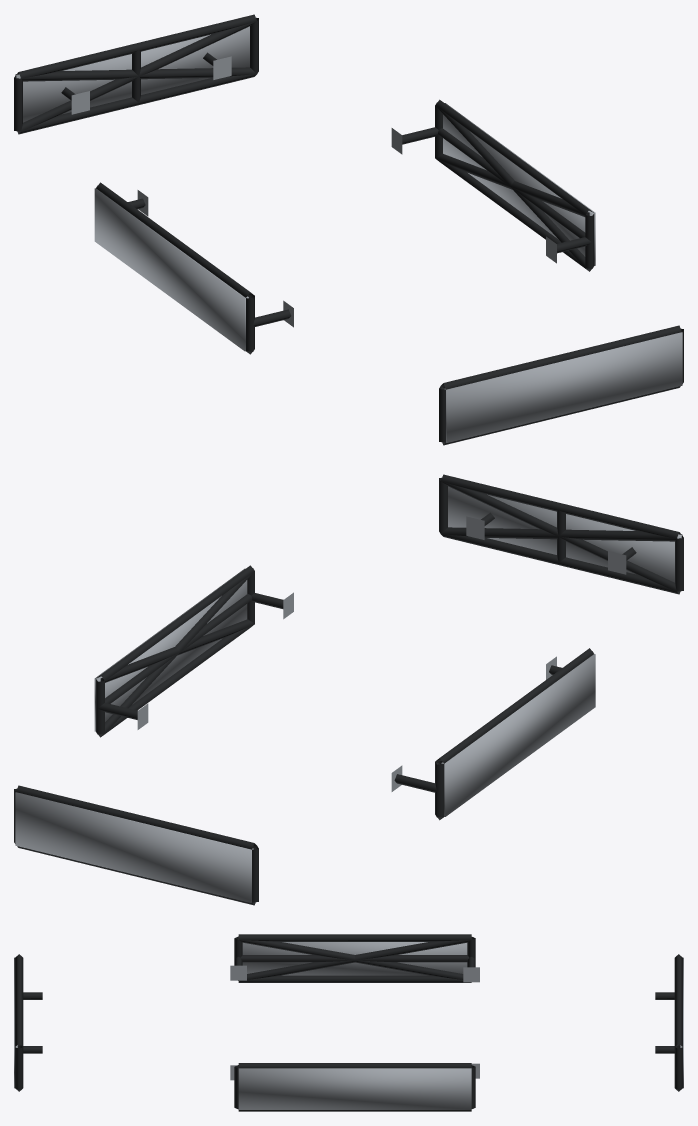
Rendered from ostwerk_abrigo_protecao.glb.
3 views of the same model, one above another, from view 1: azimuth 30°, elevation 25°; view 2: azimuth 150°, elevation 25°; view 3: azimuth 270°, elevation 25° (orthographic). The views are drawn at different scales.
Visible parts, largest first — view 1: Protection_front_Level3_Details, Protection_left_Level3_Details, Protection_rear_Level1_Details, Protection_rear_Level3_Details, Protection_right_Level1_Details, Protection_rear_Level2_Details, Protection_right_Level2_Details, Protection_right_Level3_Details, Protection_front_Level1_Details, Protection_left_Level1_Details; view 2: Protection_rear_Level3_Details, Protection_left_Level3_Details, Protection_front_Level1_Details, Protection_front_Level3_Details, Protection_right_Level1_Details, Protection_front_Level2_Details, Protection_right_Level2_Details, Protection_right_Level3_Details, Protection_rear_Level1_Details, Protection_left_Level1_Details; view 3: Protection_right_Level3_Details, Protection_left_Level2_Details, Protection_left_Level1_Details, Protection_left_Level3_Details, Protection_right_Level1_Details, Protection_rear_Level1_Details, Protection_front_Level1_Details.
Part boxes in pixels (left/top/right/bottom): Protection_front_Level3_Details: left=444, top=332, right=682, bottom=442; Protection_left_Level3_Details: left=94, top=188, right=248, bottom=351; Protection_rear_Level1_Details: left=14, top=14, right=258, bottom=134; Protection_rear_Level3_Details: left=15, top=26, right=249, bottom=122; Protection_right_Level1_Details: left=391, top=99, right=594, bottom=271; Protection_rear_Level2_Details: left=16, top=21, right=256, bottom=133; Protection_right_Level2_Details: left=435, top=106, right=593, bottom=271; Protection_right_Level3_Details: left=443, top=103, right=595, bottom=265; Protection_front_Level1_Details: left=439, top=325, right=683, bottom=445; Protection_left_Level1_Details: left=96, top=182, right=293, bottom=354; Protection_rear_Level3_Details: left=15, top=792, right=253, bottom=902; Protection_left_Level3_Details: left=441, top=654, right=595, bottom=816; Protection_front_Level1_Details: left=439, top=474, right=683, bottom=594; Protection_front_Level3_Details: left=448, top=486, right=682, bottom=582; Protection_right_Level1_Details: left=96, top=565, right=293, bottom=737; Protection_front_Level2_Details: left=441, top=481, right=681, bottom=593; Protection_right_Level2_Details: left=97, top=572, right=254, bottom=736; Protection_right_Level3_Details: left=94, top=568, right=247, bottom=731; Protection_rear_Level1_Details: left=14, top=785, right=258, bottom=905; Protection_left_Level1_Details: left=391, top=648, right=593, bottom=820; Protection_right_Level3_Details: left=238, top=1068, right=471, bottom=1109; Protection_left_Level2_Details: left=238, top=937, right=471, bottom=980; Protection_left_Level1_Details: left=230, top=934, right=479, bottom=982; Protection_left_Level3_Details: left=242, top=942, right=467, bottom=975; Protection_right_Level1_Details: left=230, top=1063, right=479, bottom=1111; Protection_rear_Level1_Details: left=655, top=954, right=682, bottom=1091; Protection_front_Level1_Details: left=15, top=954, right=42, bottom=1091.
Size of the model in its own units: 2.08 by 0.354 by 4.43.
Materials: 1 (1 with a texture image).
